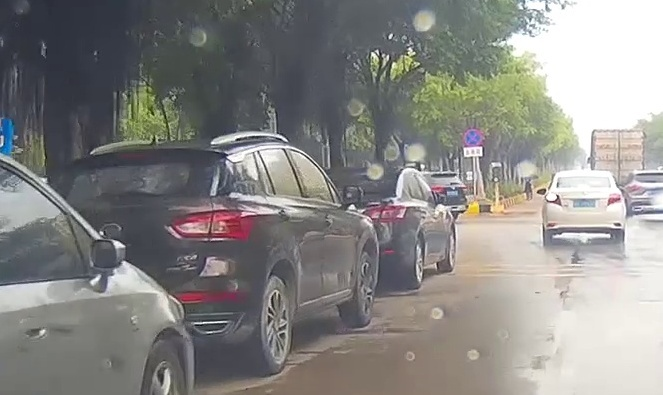L_light: (544, 192, 563, 207)
R_light: (607, 193, 622, 207)
T_light: (578, 185, 590, 187)
night-left: (542, 170, 626, 246)
